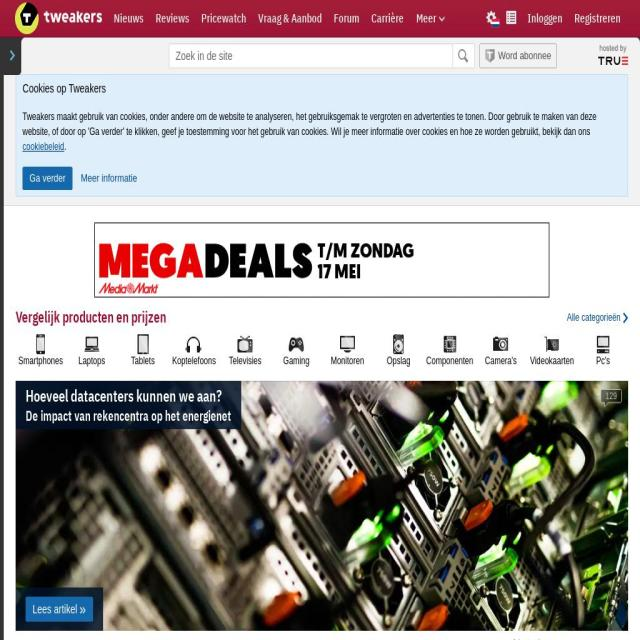button: (16, 381, 628, 637), (252, 0, 328, 37), (569, 0, 626, 37), (196, 0, 252, 37), (478, 44, 558, 68), (26, 596, 93, 622), (15, 334, 66, 368), (66, 334, 117, 368), (220, 334, 271, 368), (271, 334, 322, 368), (373, 334, 424, 368), (424, 334, 475, 368), (522, 0, 568, 37), (118, 334, 168, 368), (169, 334, 219, 368), (322, 334, 372, 368), (476, 334, 526, 368), (527, 334, 577, 368), (578, 334, 628, 368), (150, 0, 195, 37), (366, 0, 410, 37), (109, 0, 150, 37), (410, 0, 450, 37), (328, 0, 365, 37), (80, 167, 138, 190), (22, 167, 72, 190), (481, 4, 501, 31), (501, 4, 521, 31), (600, 389, 622, 408)
field: (170, 44, 452, 68), (452, 44, 474, 68)
heading: (23, 81, 622, 97), (26, 384, 231, 406), (15, 306, 62, 368), (129, 306, 166, 368), (63, 304, 128, 327)
iframe: (95, 222, 550, 298)
image: (16, 381, 628, 637), (10, 0, 108, 37), (4, 37, 21, 75), (598, 44, 628, 65)
link: (26, 406, 231, 424), (566, 312, 621, 323), (22, 141, 64, 152)
text: (22, 111, 596, 137), (22, 111, 486, 122), (331, 126, 590, 137), (509, 638, 547, 640), (64, 141, 66, 152)
